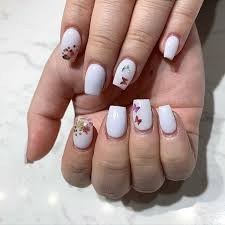nail: (60, 27, 82, 64), (113, 57, 137, 90), (132, 97, 154, 133), (85, 61, 105, 97), (73, 117, 93, 150), (107, 105, 126, 139), (158, 105, 176, 135), (162, 34, 180, 60), (24, 150, 35, 164)
